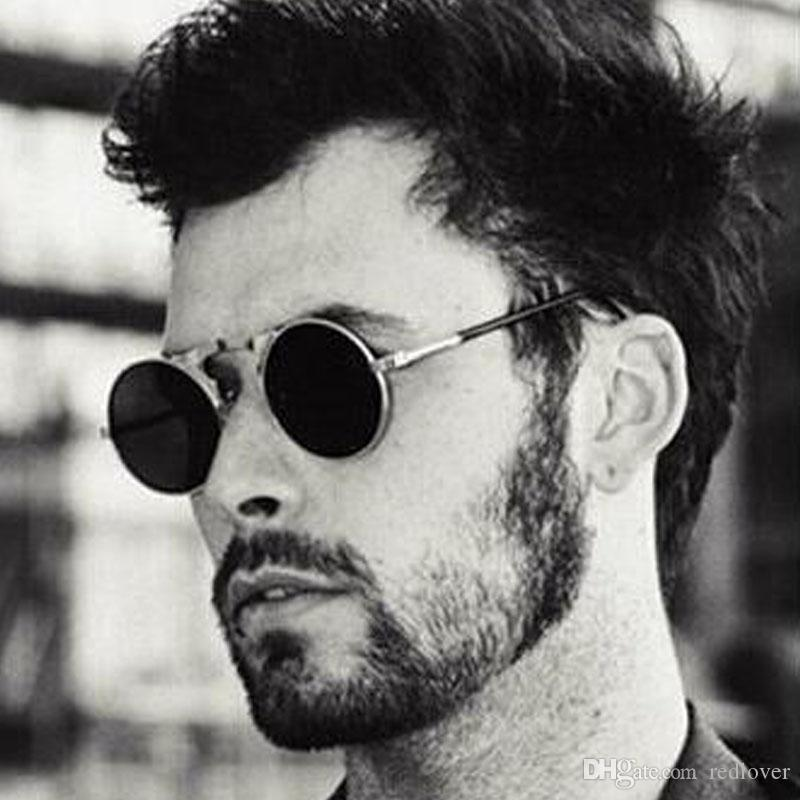sunglasses: (60, 304, 518, 492)
